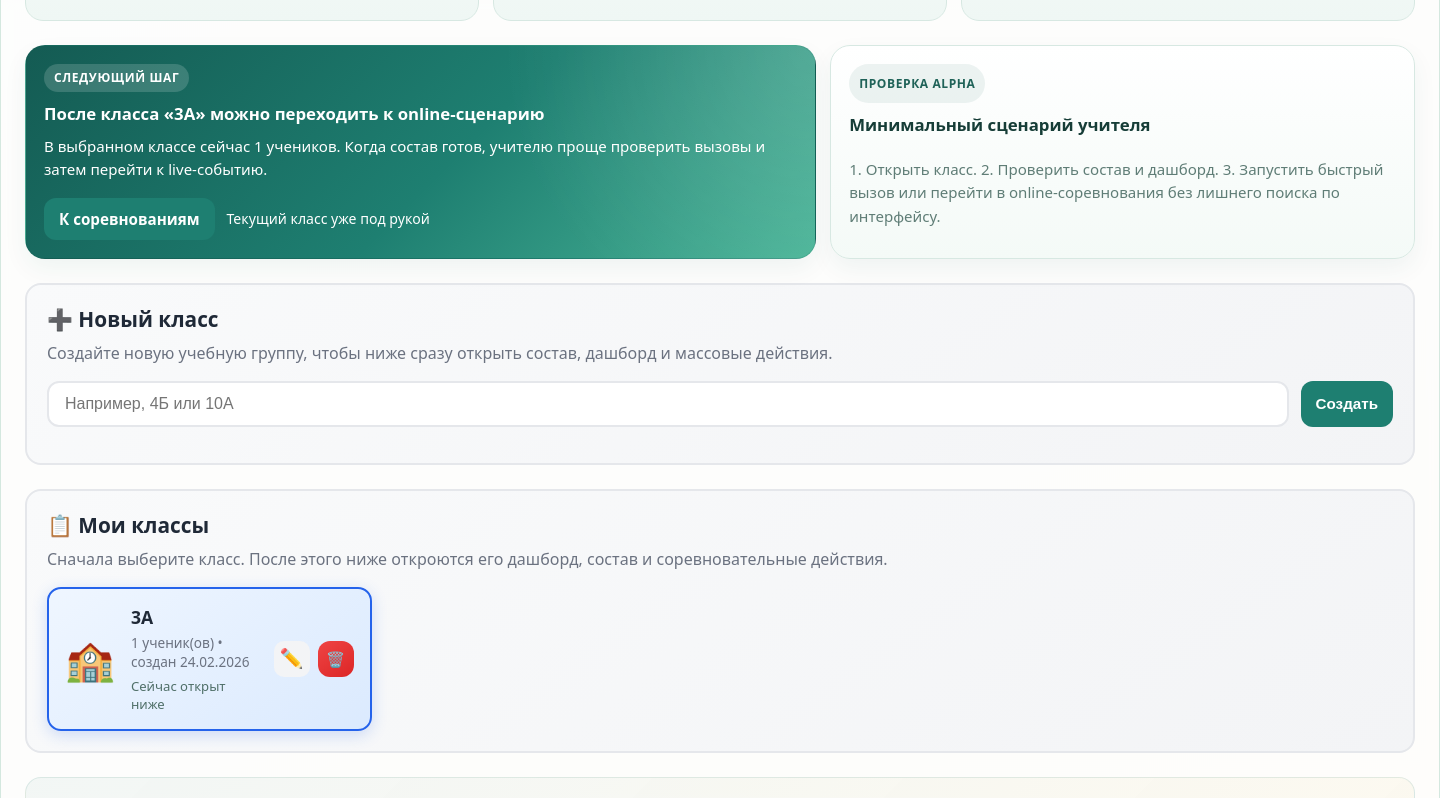
Test case: ClassesPage › creates class and adds student
(page scrolled)
Type "4Б" into the field with test id "class-name-input" at (668, 404), box top-left (47, 381), bottom-right (1288, 427)
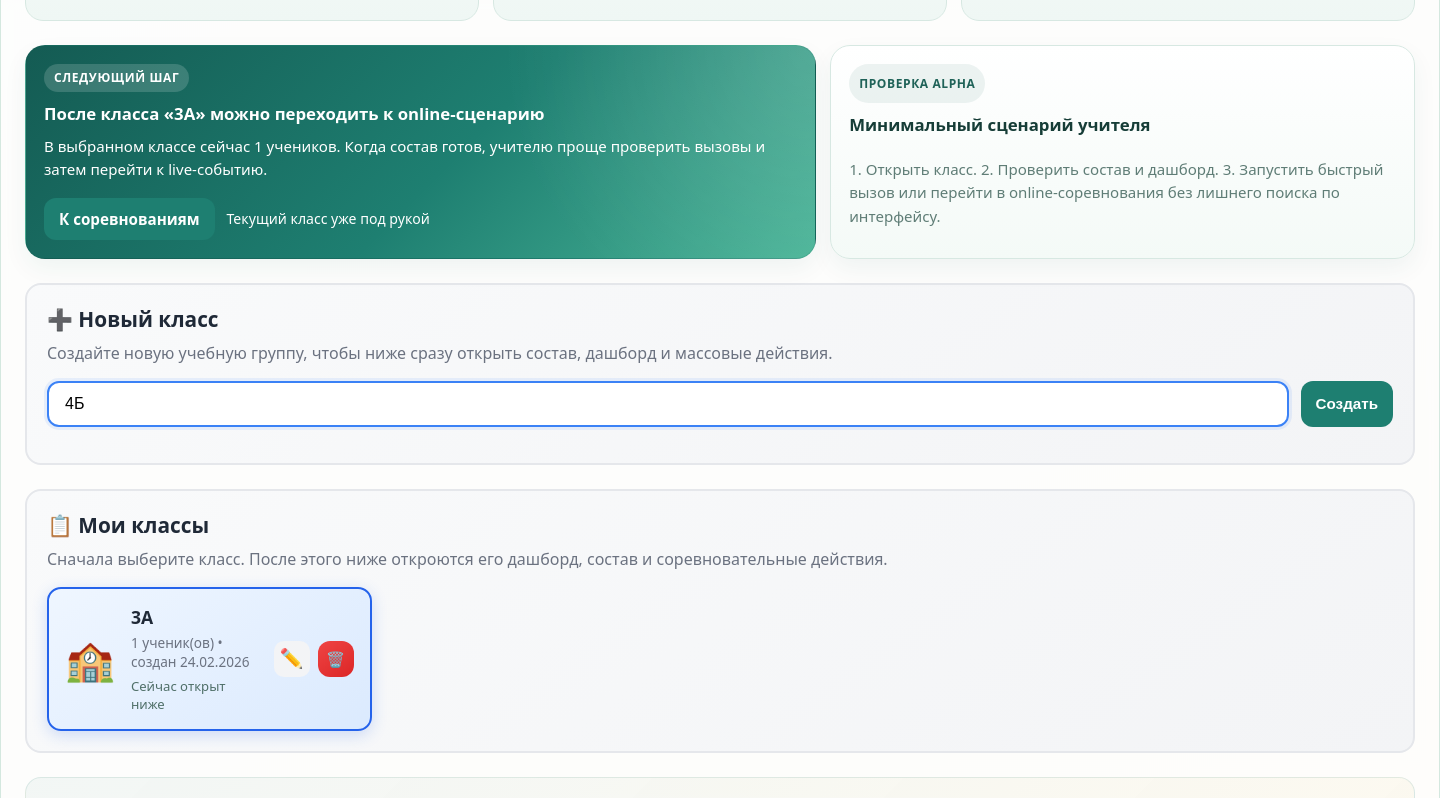
Click the button with test id "create-class-btn" at (1347, 404), box top-left (1300, 381), bottom-right (1393, 427)
(page scrolled)
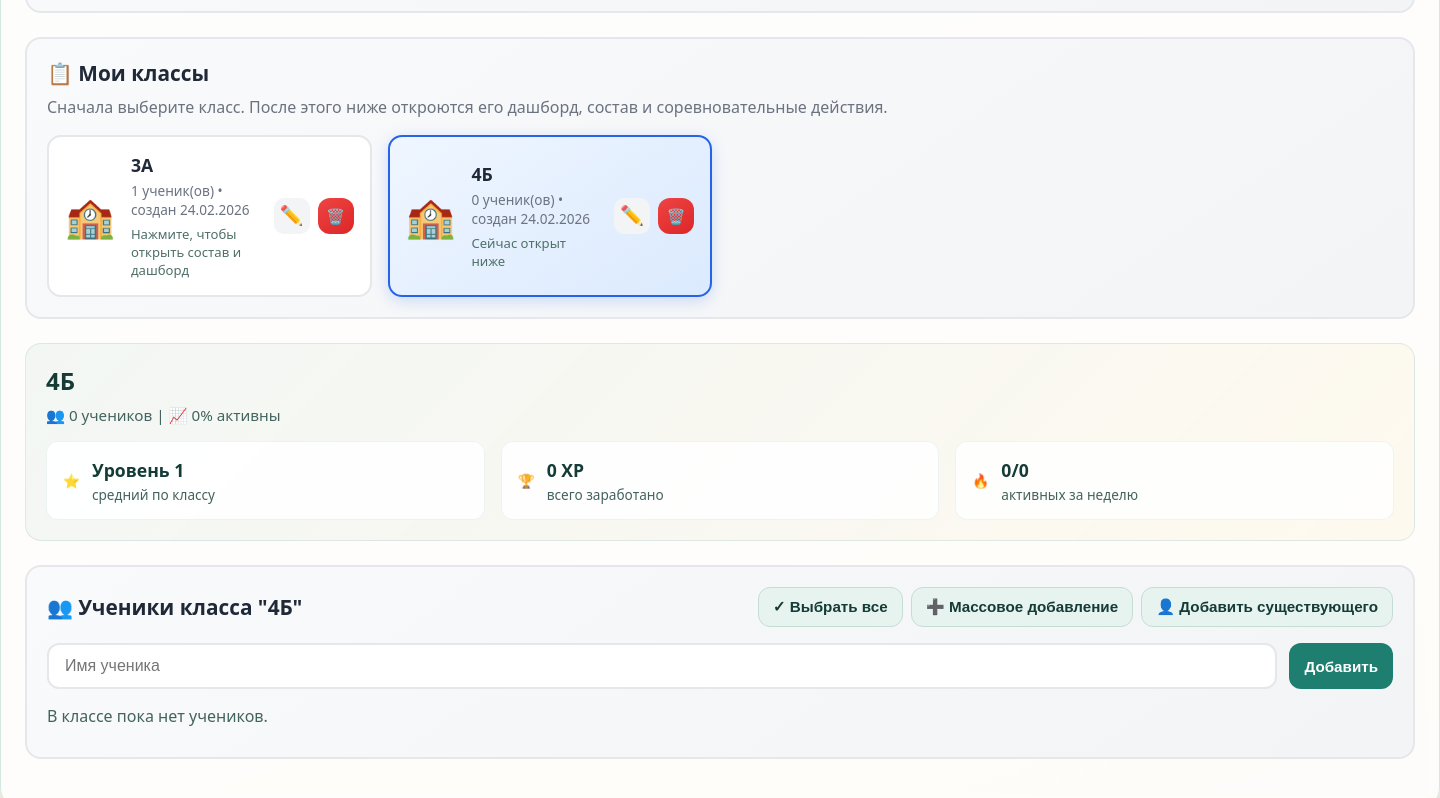
Type "Миша" into the field with test id "student-name-input" at (662, 666), box top-left (47, 643), bottom-right (1277, 689)
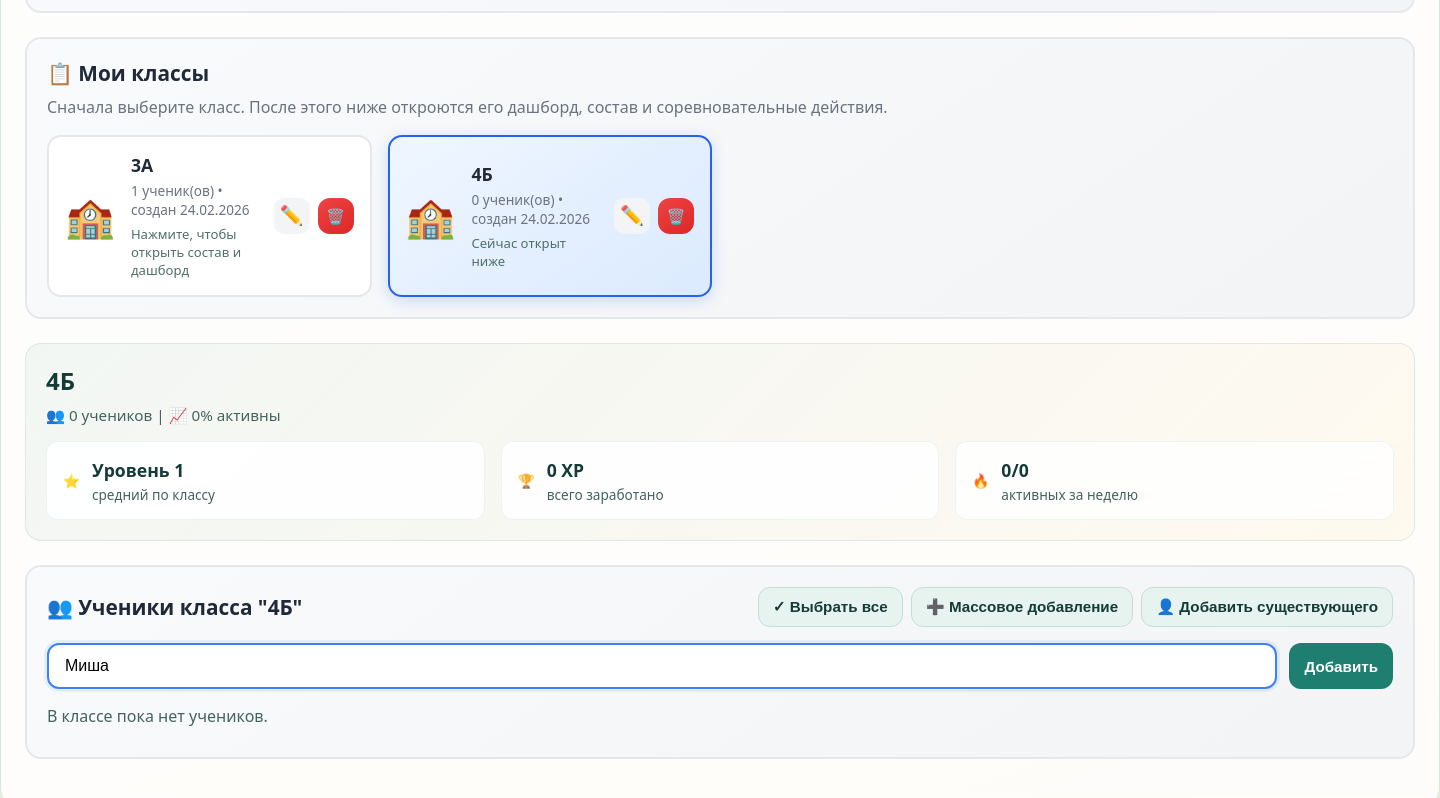
Click the button with test id "create-student-btn" at (1341, 666), box top-left (1289, 643), bottom-right (1393, 689)
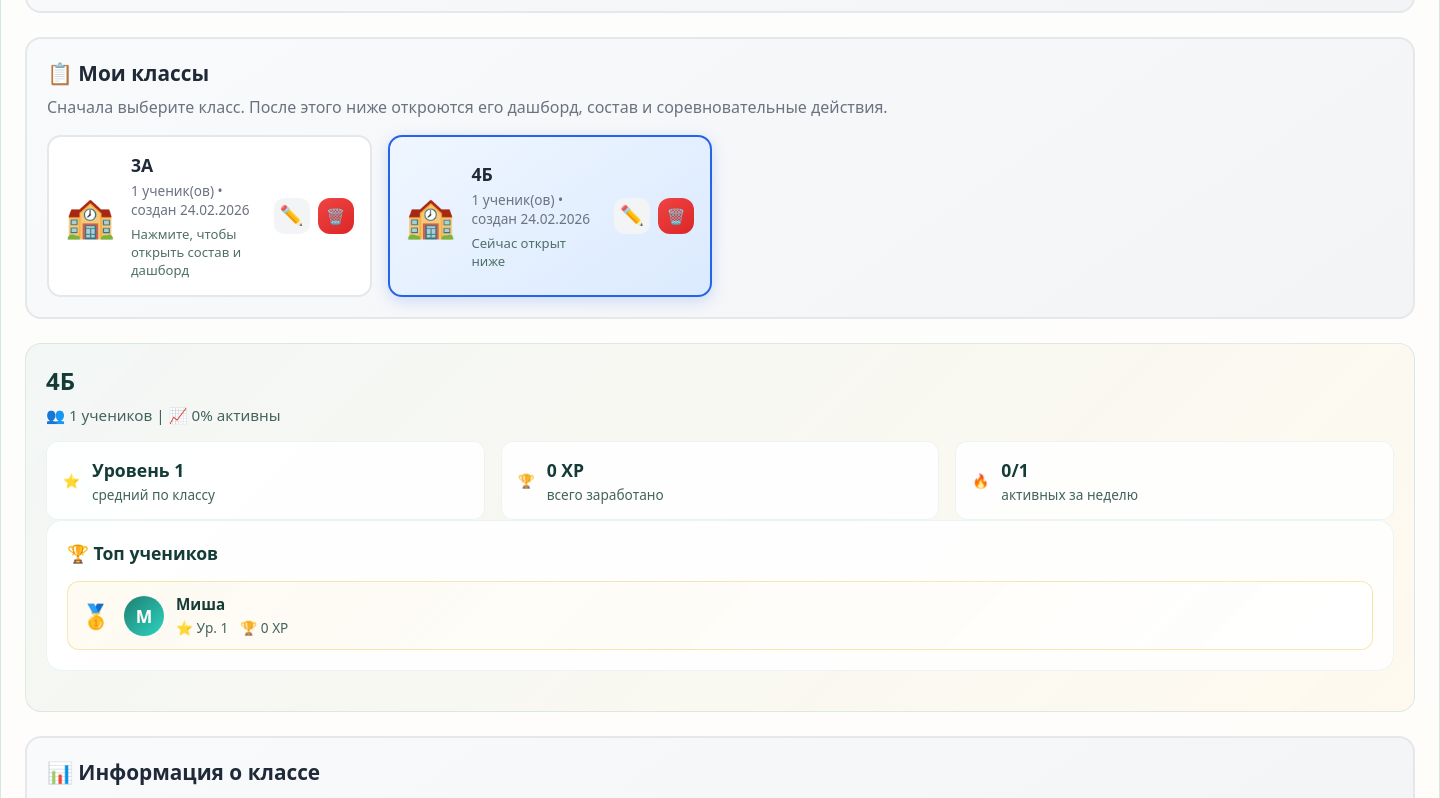
Expected: the text "Миша" is shown, top-left (176, 594), bottom-right (225, 614)
